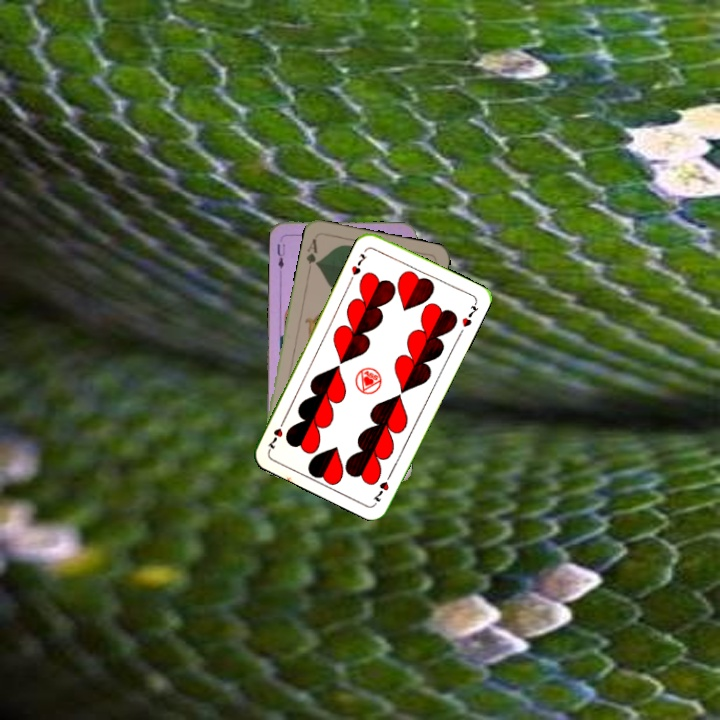EU: (273, 239, 288, 271)
GA: (302, 234, 321, 269)
H7: (369, 468, 395, 506), (347, 250, 370, 278)
